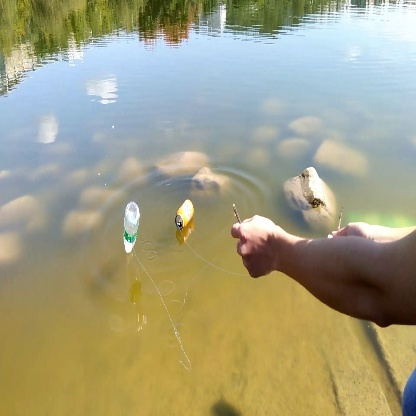bottle: (115, 200, 141, 259), (171, 196, 198, 237)
